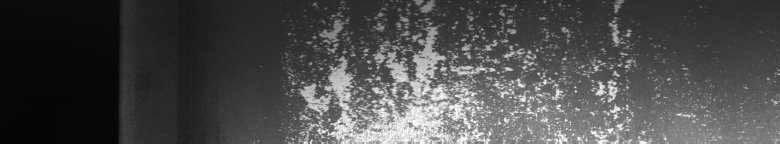kb: (280, 4, 776, 136)
